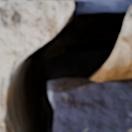brick: (48, 78, 131, 131), (102, 0, 131, 4)
crack: (0, 0, 130, 131)
